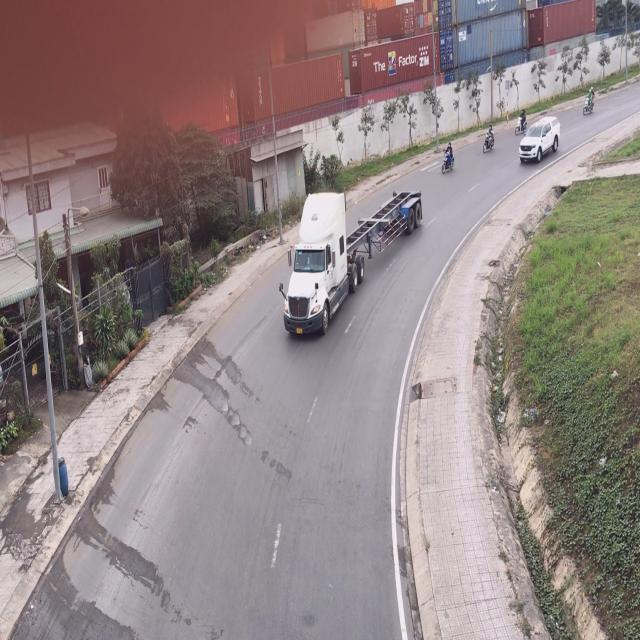car: (518, 116, 560, 168)
motorbike: (441, 139, 456, 177), (583, 81, 597, 118), (484, 122, 496, 155), (514, 110, 528, 136)
truck: (280, 192, 422, 342)
